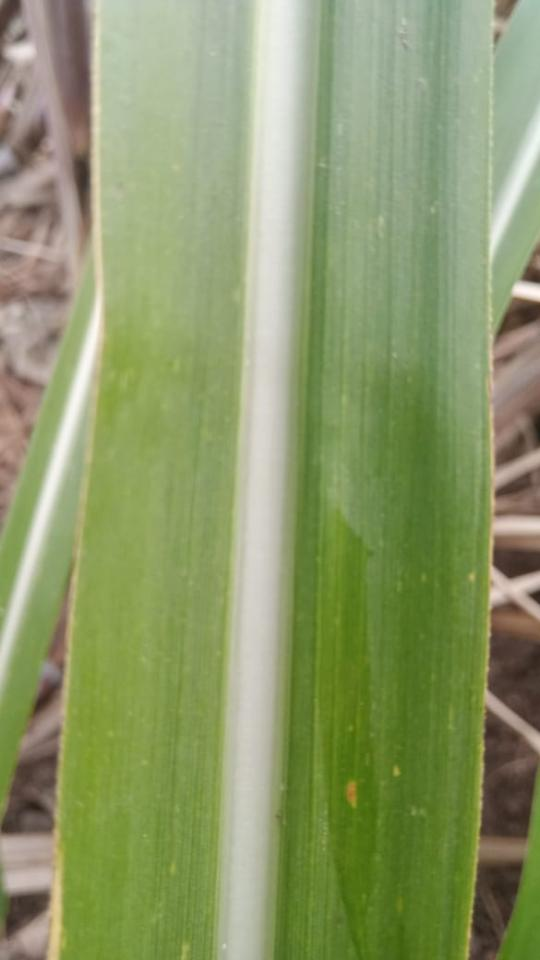Healthy: (58, 0, 492, 959), (0, 249, 103, 822), (489, 0, 539, 334)
